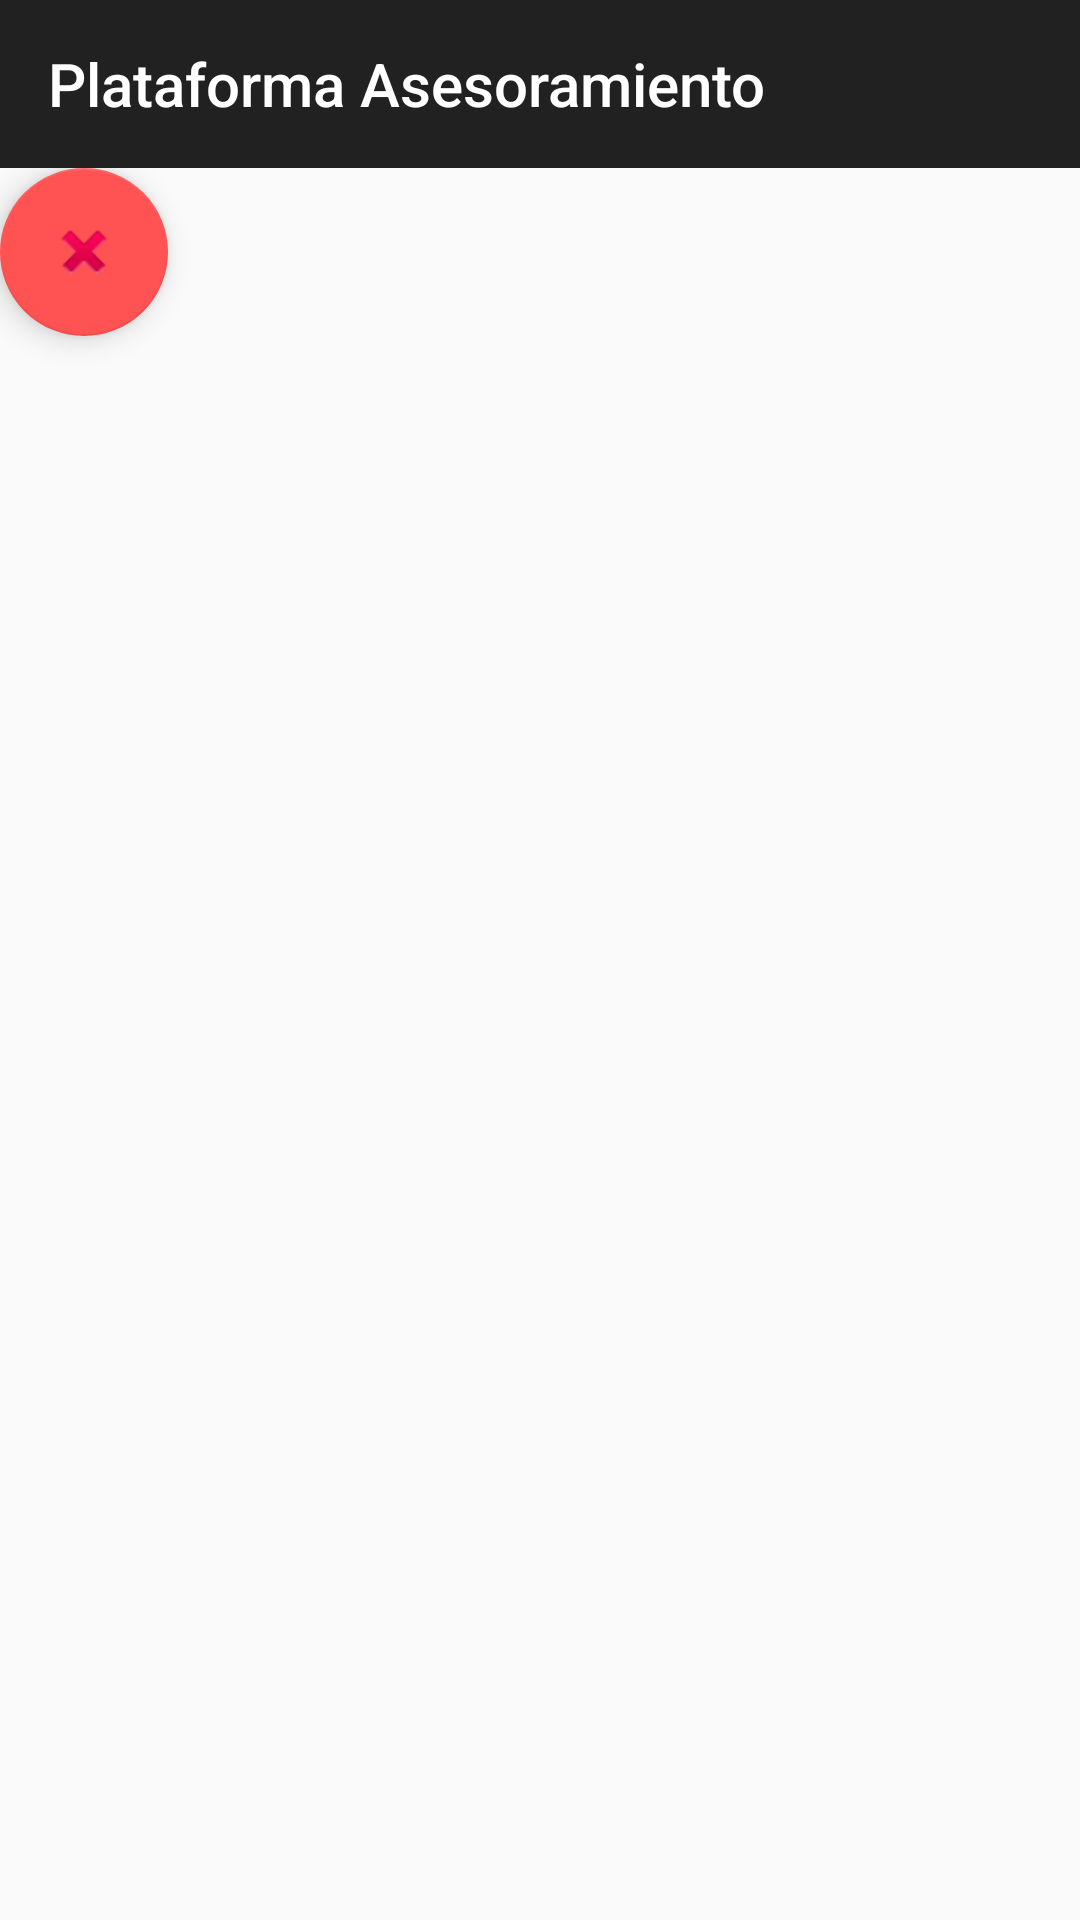

Where to tap for icons on this 1080w x 1920h app screen, as (x=x, y=y):
delete: (x=84, y=252)
